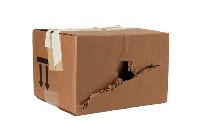damaged package: (77, 55, 161, 112)
undamaged: (30, 22, 170, 119)
